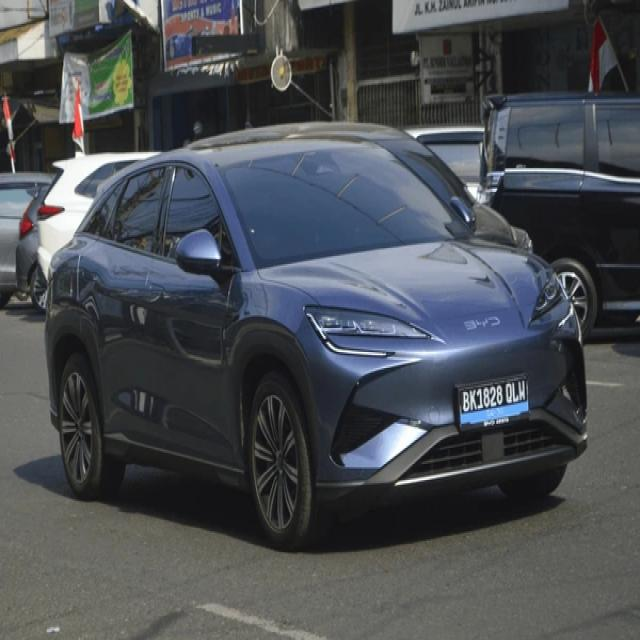byd: (462, 310, 503, 338)
